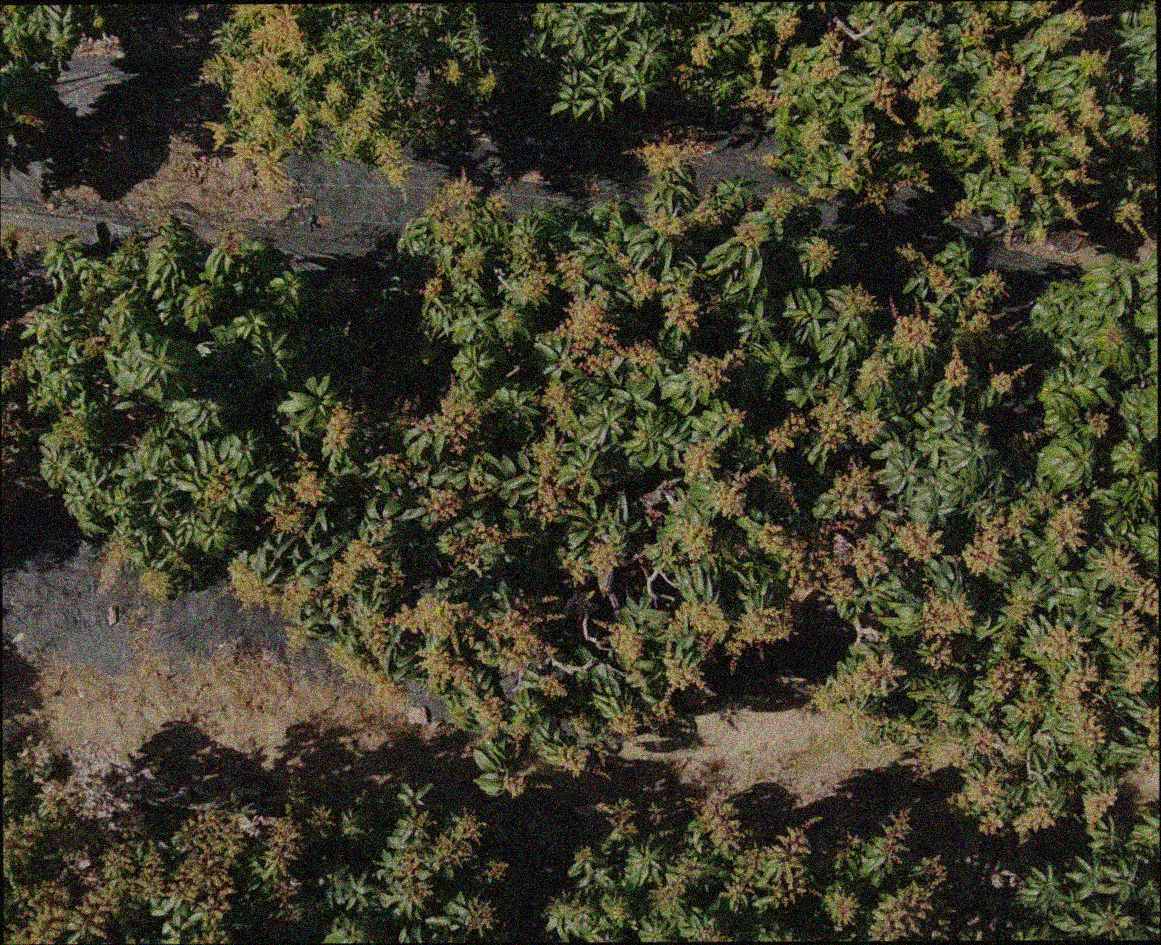flowers: (2, 808, 302, 943), (207, 3, 412, 191), (756, 461, 942, 603), (680, 392, 880, 519), (227, 540, 387, 656), (517, 245, 657, 376), (606, 601, 730, 734), (395, 592, 561, 688), (377, 786, 481, 920), (962, 493, 1089, 576), (812, 652, 918, 746), (528, 381, 594, 522), (726, 817, 820, 913), (425, 173, 509, 279), (831, 121, 931, 207), (609, 243, 699, 334), (1102, 548, 1158, 694), (947, 728, 1023, 835), (853, 315, 934, 401), (389, 385, 487, 454), (1041, 86, 1109, 185), (961, 0, 1088, 53), (867, 857, 946, 940), (426, 464, 516, 520), (438, 520, 529, 575), (325, 642, 404, 705), (265, 453, 323, 533), (723, 607, 792, 672), (1053, 664, 1106, 746), (919, 590, 973, 670), (905, 27, 943, 131), (987, 657, 1045, 723), (821, 838, 861, 930), (686, 789, 744, 852), (558, 713, 609, 778), (895, 243, 953, 296), (981, 48, 1024, 117), (633, 139, 713, 176), (741, 48, 785, 114), (651, 858, 701, 916), (647, 200, 721, 238), (962, 271, 1006, 333), (686, 347, 746, 391), (477, 696, 530, 744), (667, 519, 715, 571), (561, 541, 617, 585), (1036, 624, 1084, 663), (875, 809, 910, 862), (1011, 800, 1055, 841), (828, 284, 879, 318), (1052, 187, 1098, 222), (322, 406, 355, 454), (379, 453, 419, 489), (801, 235, 836, 276), (814, 32, 843, 81), (602, 798, 636, 839), (1083, 788, 1118, 826), (1016, 147, 1043, 196), (203, 465, 233, 509), (989, 364, 1031, 395), (1113, 202, 1148, 239), (762, 188, 802, 219), (1003, 588, 1037, 624), (138, 568, 174, 601), (733, 215, 768, 248), (774, 11, 800, 55), (943, 343, 968, 388), (465, 900, 494, 934), (1078, 50, 1109, 77), (982, 134, 1004, 172), (501, 769, 528, 798), (728, 4, 754, 34), (689, 922, 730, 941), (1142, 707, 1158, 754), (944, 199, 975, 223), (1003, 203, 1020, 246), (537, 673, 567, 697), (421, 269, 443, 300), (690, 34, 710, 67), (1085, 411, 1109, 438), (1128, 113, 1149, 143), (482, 859, 508, 882), (477, 71, 497, 98), (443, 58, 461, 85), (963, 121, 977, 139), (966, 150, 980, 166)
